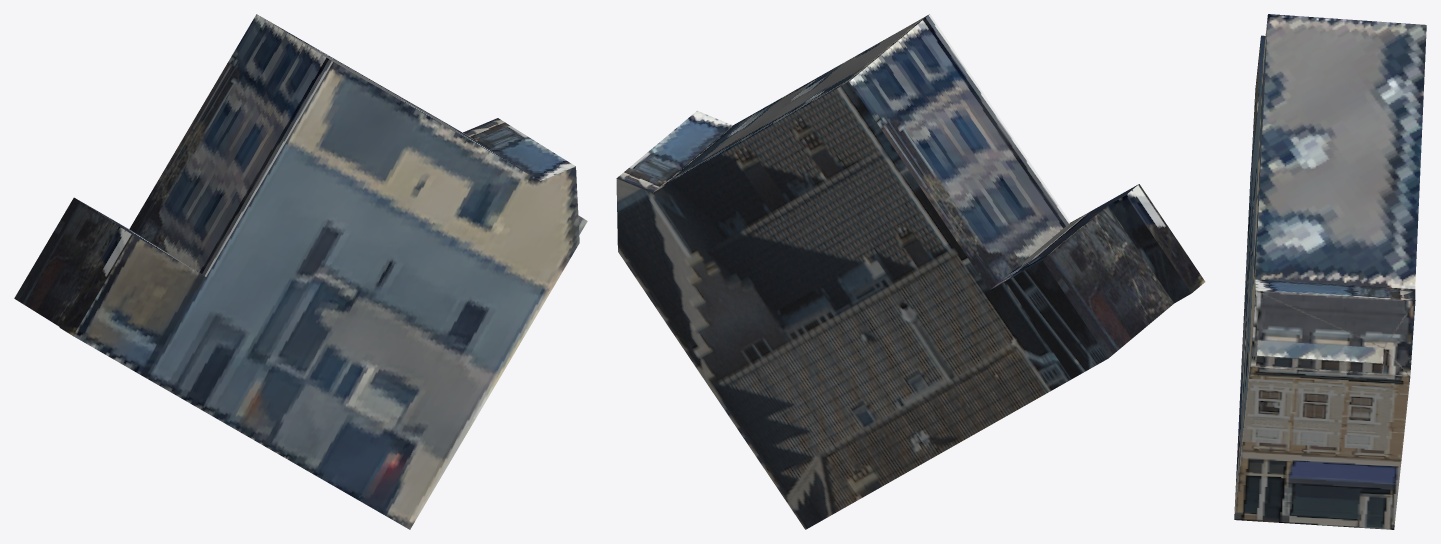
3 renders of one model, left to right at view 1: azimuth 30°, elevation 25°; view 2: azimuth 150°, elevation 25°; view 3: azimuth 270°, elevation 25°, orthographic.
Parts seen in each view (by area): view 1: BAG_0599100000671684 (×5); view 2: BAG_0599100000671684 (×5); view 3: BAG_0599100000671684 (×5).
Part boxes in pixels (left/top/right/bottom): BAG_0599100000671684 (×5): left=14, top=14, right=587, bottom=529; BAG_0599100000671684 (×5): left=616, top=14, right=1205, bottom=529; BAG_0599100000671684 (×5): left=1234, top=14, right=1426, bottom=529.
Size of the model in its own units: 24.19 by 21.49 by 7.72.
Materials: 6 (5 with a texture image).
